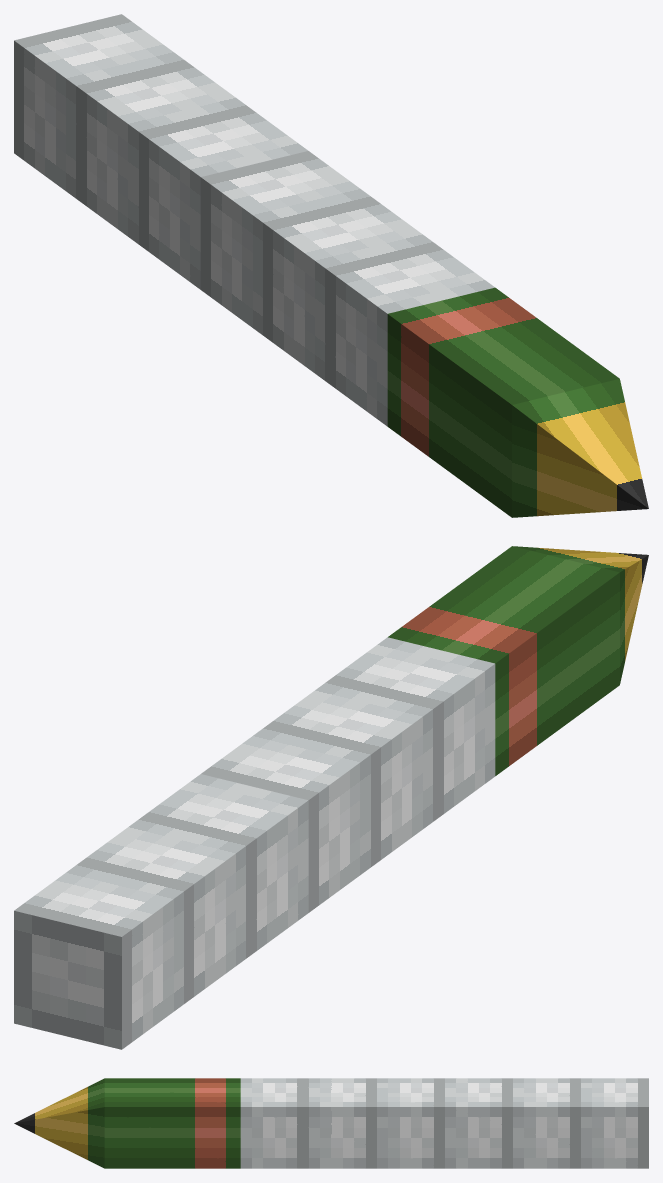
File: 406mmhe.obj
3 views of the same model, one above another, from view 1: azimuth 30°, elevation 25°; view 2: azimuth 150°, elevation 25°; view 3: azimuth 270°, elevation 25° (orthographic). The views are drawn at different scales.
Visible parts, largest first — view 1: cube1, cube2, cube, pyramid; view 2: cube2, cube1, cube, pyramid; view 3: cube1, cube2, cube, pyramid.
Boxes of the visible parts, <box> form: cube1: <box>200,151,494,426</box>; cube2: <box>14,14,308,289</box>; cube: <box>387,287,619,517</box>; pyramid: <box>512,378,648,517</box>; cube2: <box>14,774,308,1049</box>; cube1: <box>201,637,495,912</box>; cube: <box>388,546,619,775</box>; pyramid: <box>514,546,648,683</box>; cube1: <box>240,1078,444,1168</box>; cube2: <box>445,1078,648,1168</box>; cube: <box>104,1078,240,1168</box>; pyramid: <box>14,1078,104,1168</box>.
Bounding box in the file's own units: 0.375 × 0.375 × 3.5.
